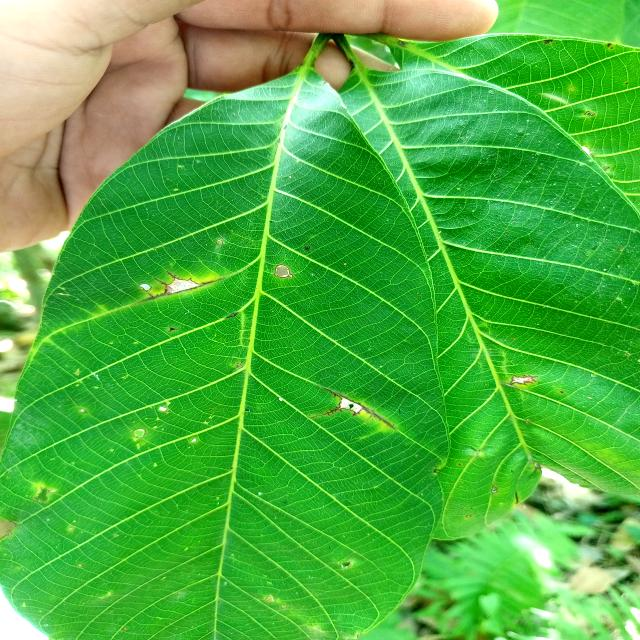Colletotrichum: (274, 264, 294, 278), (134, 428, 146, 437), (139, 283, 152, 291), (190, 437, 198, 442), (235, 363, 242, 368), (492, 487, 498, 492)
Corynespora: (311, 385, 396, 429), (136, 270, 224, 304), (312, 406, 342, 419), (509, 374, 539, 386), (154, 277, 168, 286), (166, 272, 180, 280), (514, 491, 520, 504)
Leaf-Blight: (166, 278, 200, 294), (340, 397, 362, 413)
